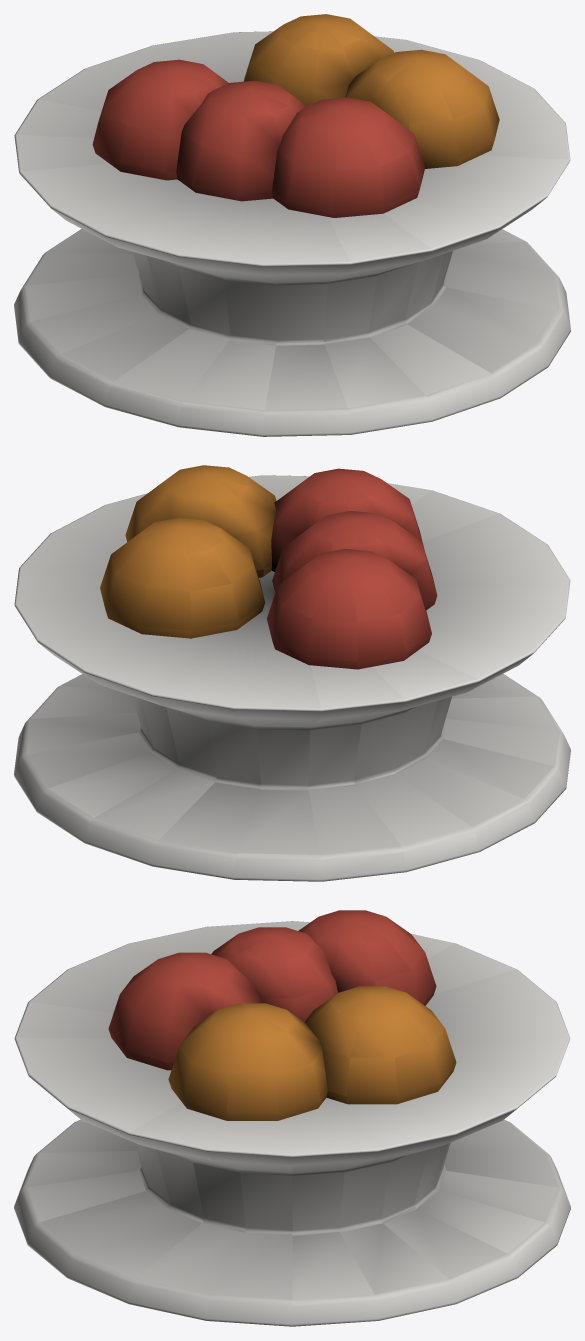
The model's file is bowl_fruit.glb.
The picture shows the model from 3 angles, top to bottom: view 1: azimuth 30°, elevation 25°; view 2: azimuth 150°, elevation 25°; view 3: azimuth 270°, elevation 25°; orthographic projection.
Parts seen in each view (by area): view 1: bowl_fruit; view 2: bowl_fruit; view 3: bowl_fruit.
Part boxes in pixels (x1,y1,x2,y2): bowl_fruit: [14, 14, 570, 436]; bowl_fruit: [14, 465, 570, 881]; bowl_fruit: [14, 910, 570, 1326].
Bounding box in the file's own units: 0.2785 × 0.1378 × 0.2785.
